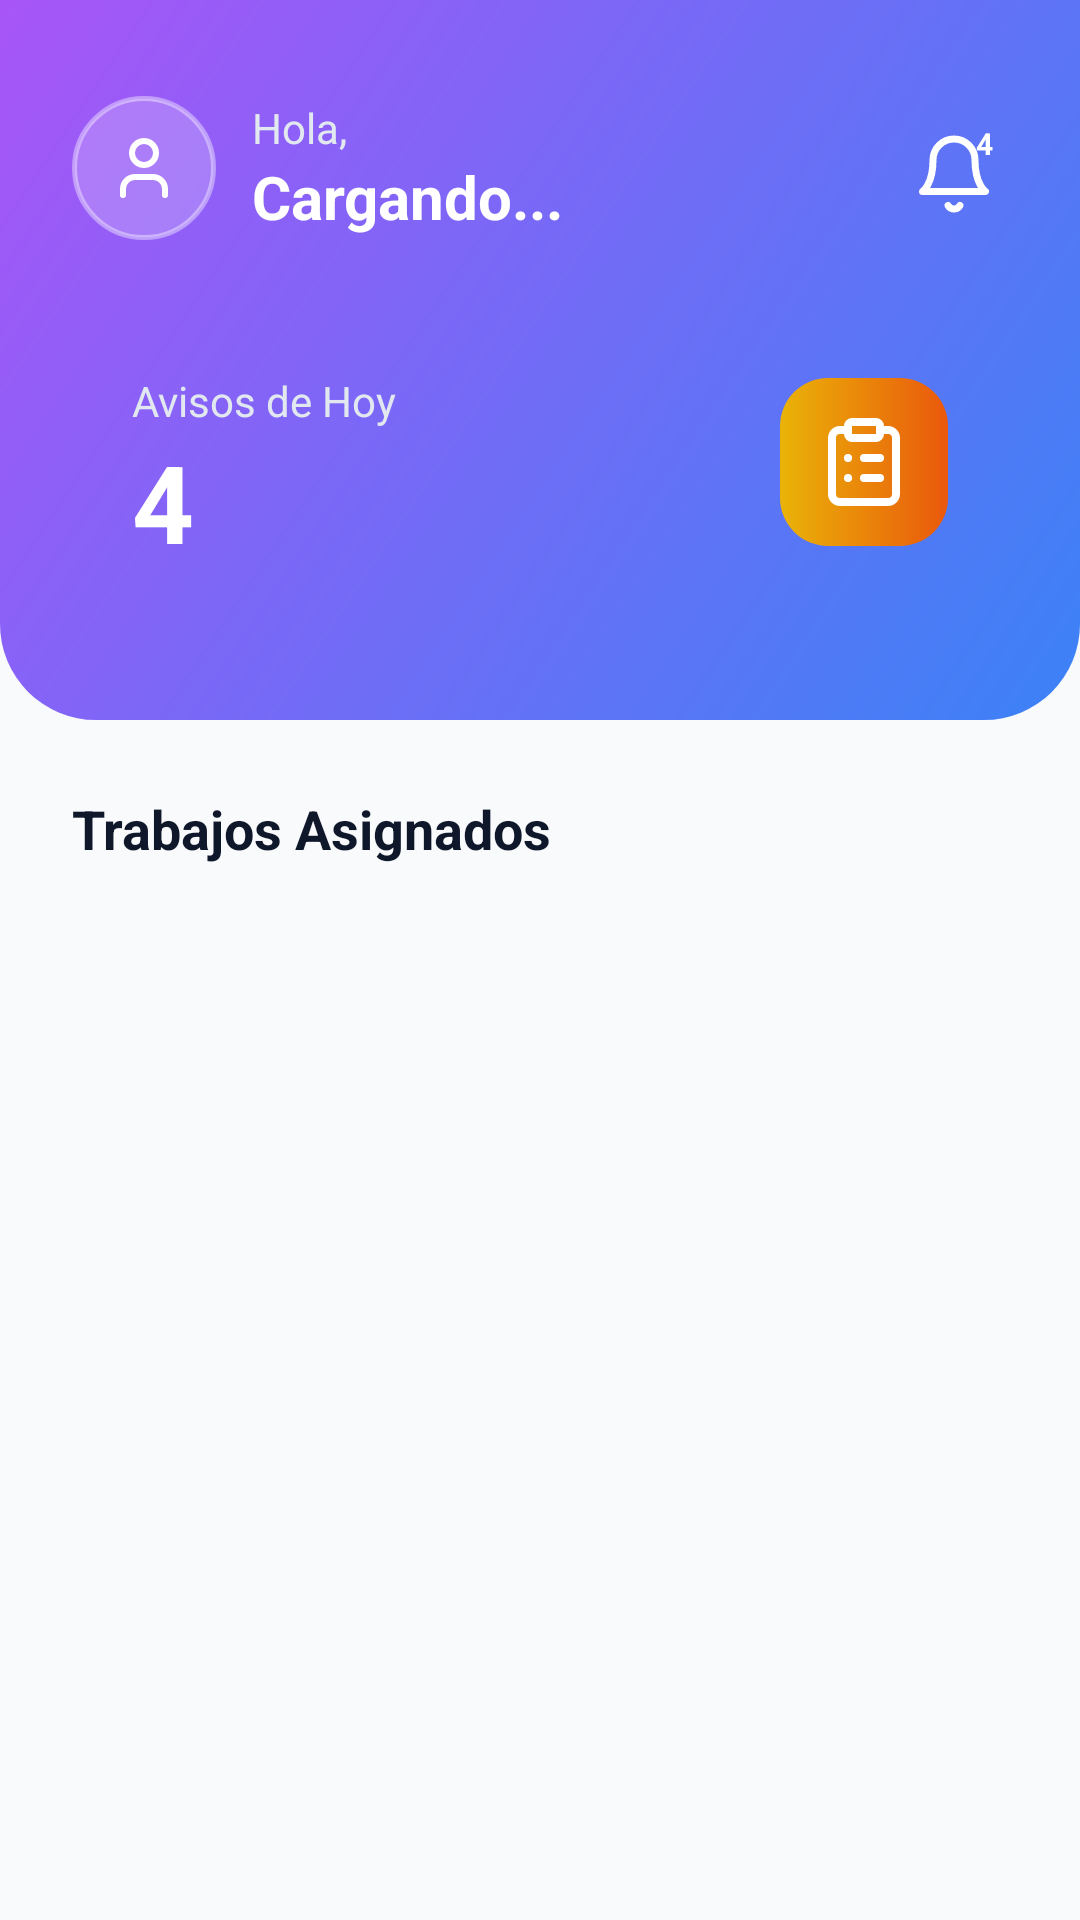

Point at icon controls on the screen. Image size 1080px x 1920px, points as (x=x, y=y).
campana: (x=956, y=173)
portapapeles: (x=864, y=462)
usuario: (x=144, y=168)
